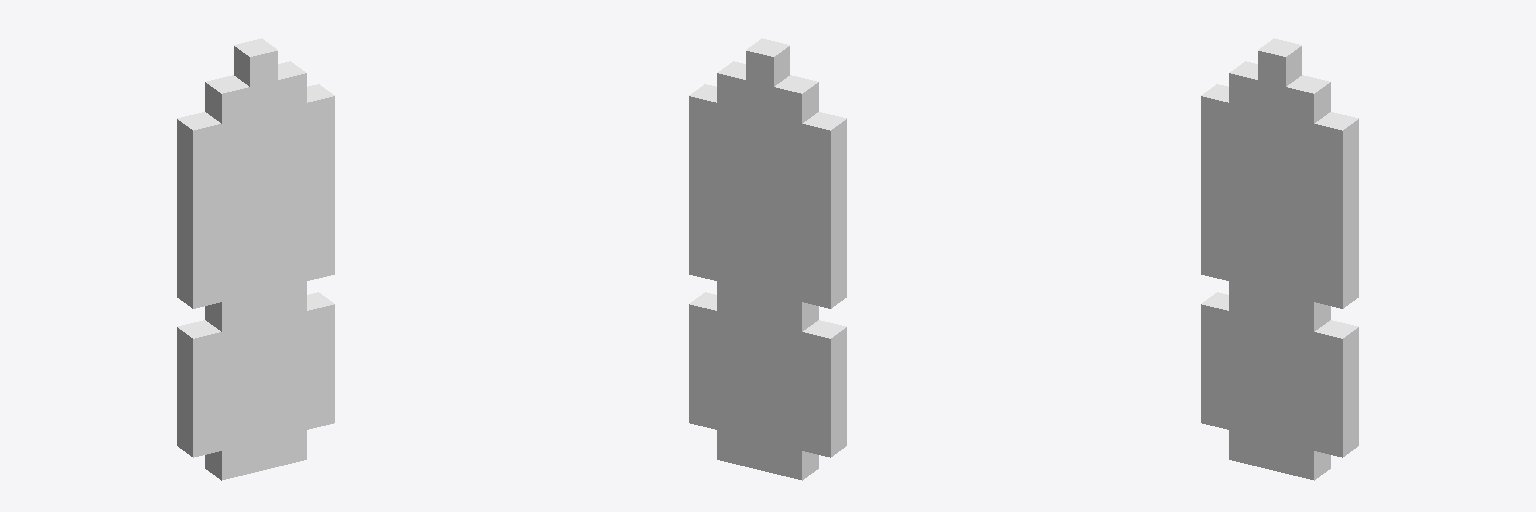
The model's file is virginghost_FrontDie.obj.
The picture shows the model from 3 angles: view 1: azimuth 30°, elevation 25°; view 2: azimuth 150°, elevation 25°; view 3: azimuth 330°, elevation 25°; orthographic projection.
Visible parts, largest first — view 1: object 1; view 2: object 1; view 3: object 1.
Boxes of the visible parts, x1=… form: object 1: x1=177, y1=38, x2=334, y2=480; object 1: x1=689, y1=38, x2=846, y2=480; object 1: x1=1201, y1=38, x2=1358, y2=480.
Size of the model in its own units: 0.5 by 1.4 by 0.1.